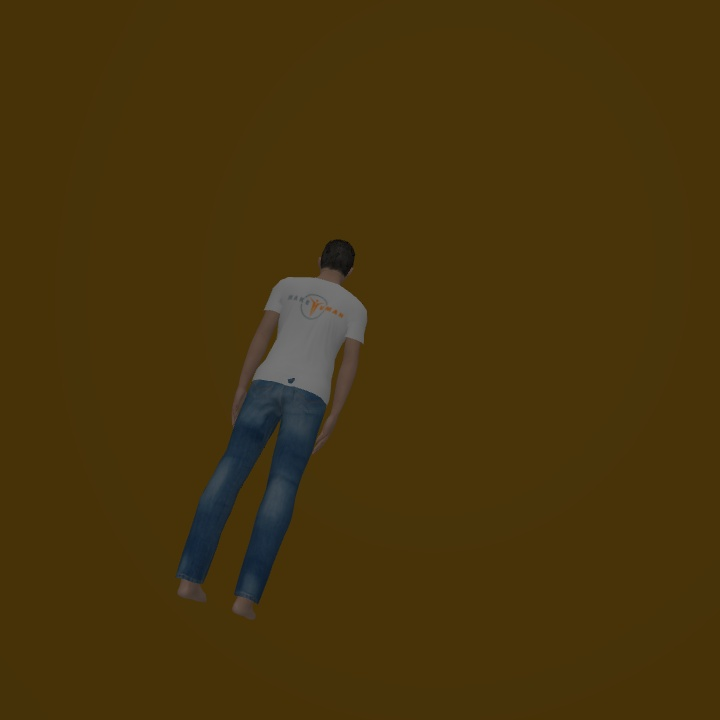victim: (174, 237, 370, 619)
